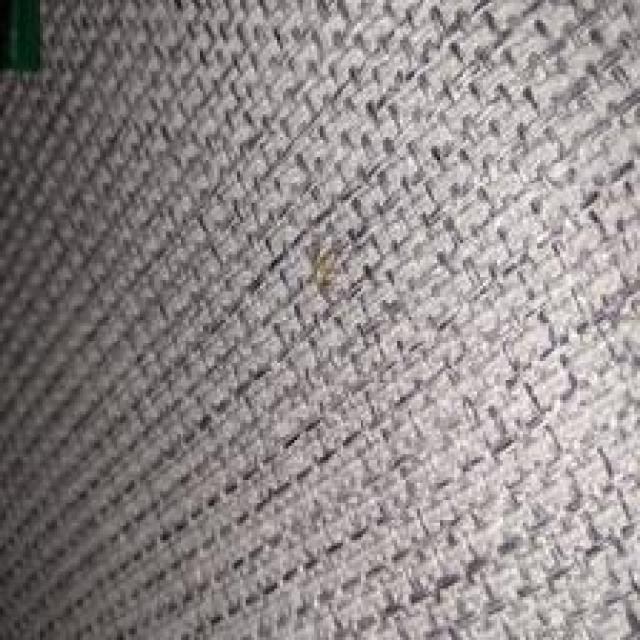Culex: (0, 0, 46, 77)
